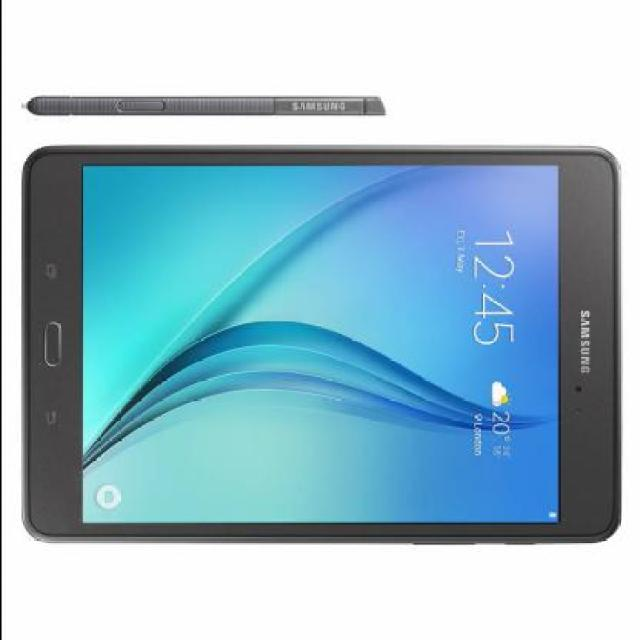smart phone: (22, 99, 629, 561)
